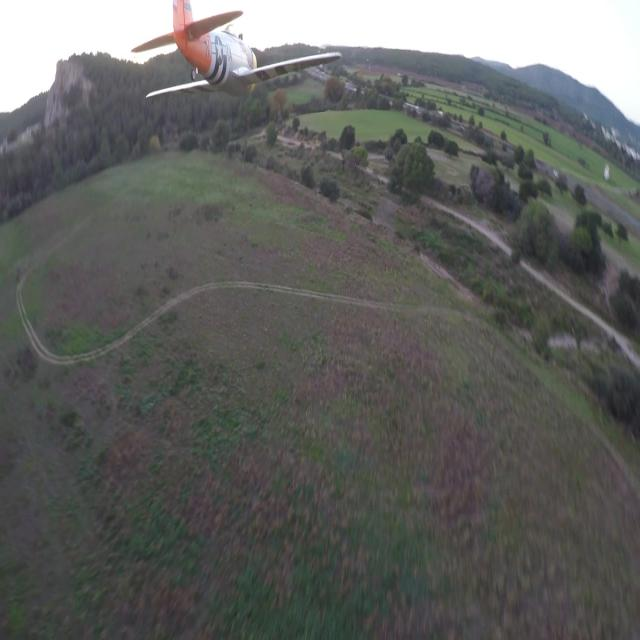iha: (131, 32, 342, 69)
